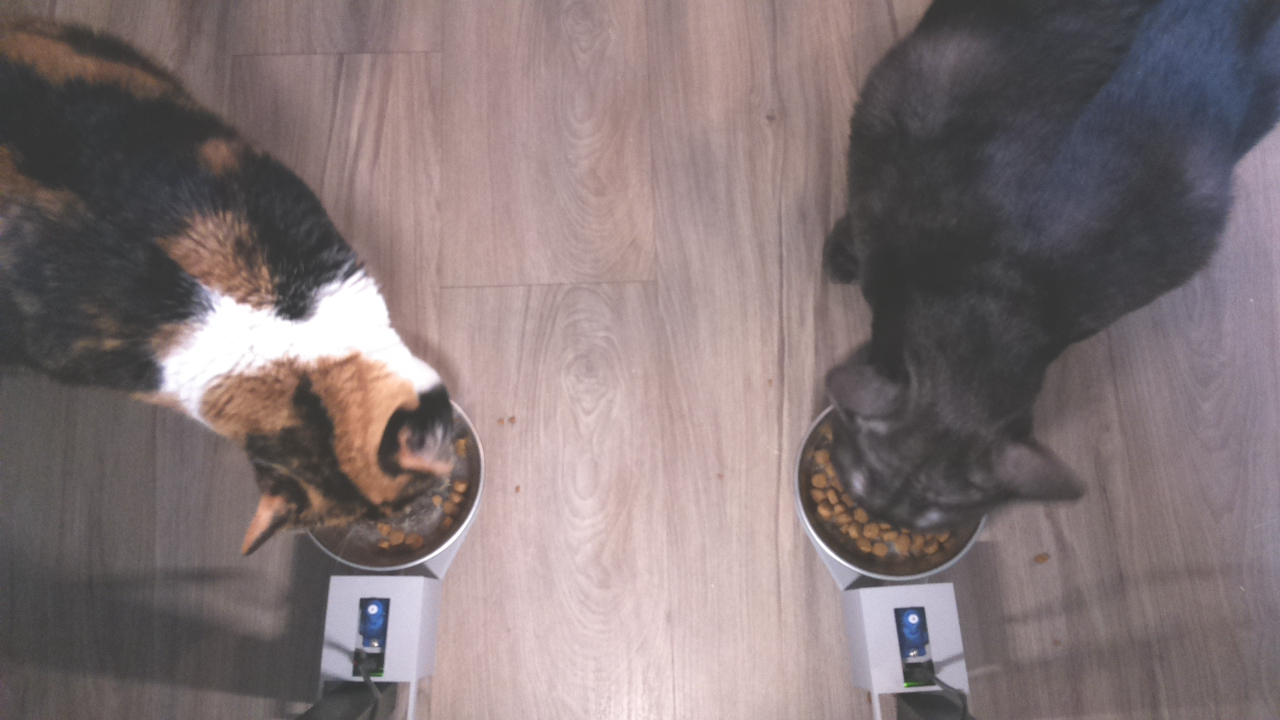bella_eating: (228, 297, 493, 575)
saki_eating: (779, 298, 1091, 596)
